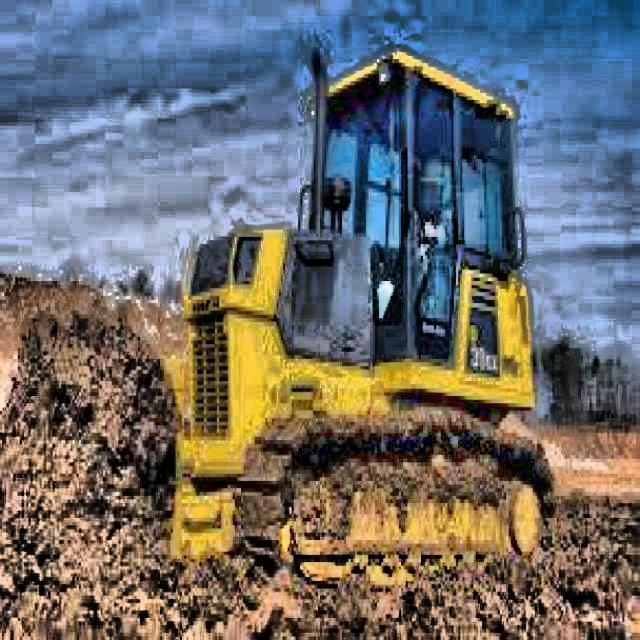bull_dozer/loader/grader: (166, 42, 560, 588)
person: (414, 155, 456, 255)
